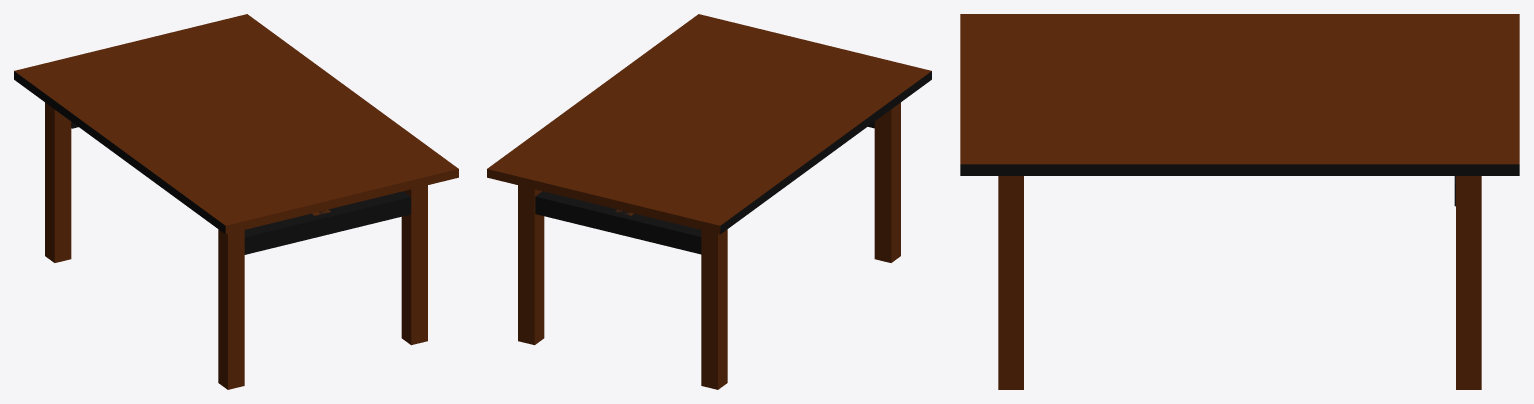
File: table_re.obj
3 renders of one model, left to right at view 1: azimuth 30°, elevation 25°; view 2: azimuth 150°, elevation 25°; view 3: azimuth 270°, elevation 25°, orthographic. The views are drawn at different scales.
Visible parts, largest first — view 1: Platte, Stütze, Bein_3, Bein_1, Bein_2; view 2: Platte, Bein_1, Stütze_1, Bein_3, Bein; view 3: Platte, Bein, Bein_2.
Part boxes in pixels (x1=…): Platte: x1=14, y1=14, x2=458, y2=234; Stütze: x1=244, y1=191, x2=410, y2=254; Bein_3: x1=218, y1=229, x2=244, y2=389; Bein_1: x1=45, y1=102, x2=71, y2=262; Bein_2: x1=401, y1=185, x2=427, y2=345; Platte: x1=487, y1=14, x2=931, y2=234; Bein_1: x1=701, y1=229, x2=727, y2=389; Stütze_1: x1=535, y1=191, x2=701, y2=254; Bein_3: x1=874, y1=102, x2=900, y2=262; Bein: x1=518, y1=185, x2=544, y2=345; Platte: x1=960, y1=14, x2=1519, y2=175; Bein: x1=1456, y1=176, x2=1481, y2=389; Bein_2: x1=998, y1=176, x2=1023, y2=389.
Size of the model in its own units: 1.4 by 1.03 by 2.2.
